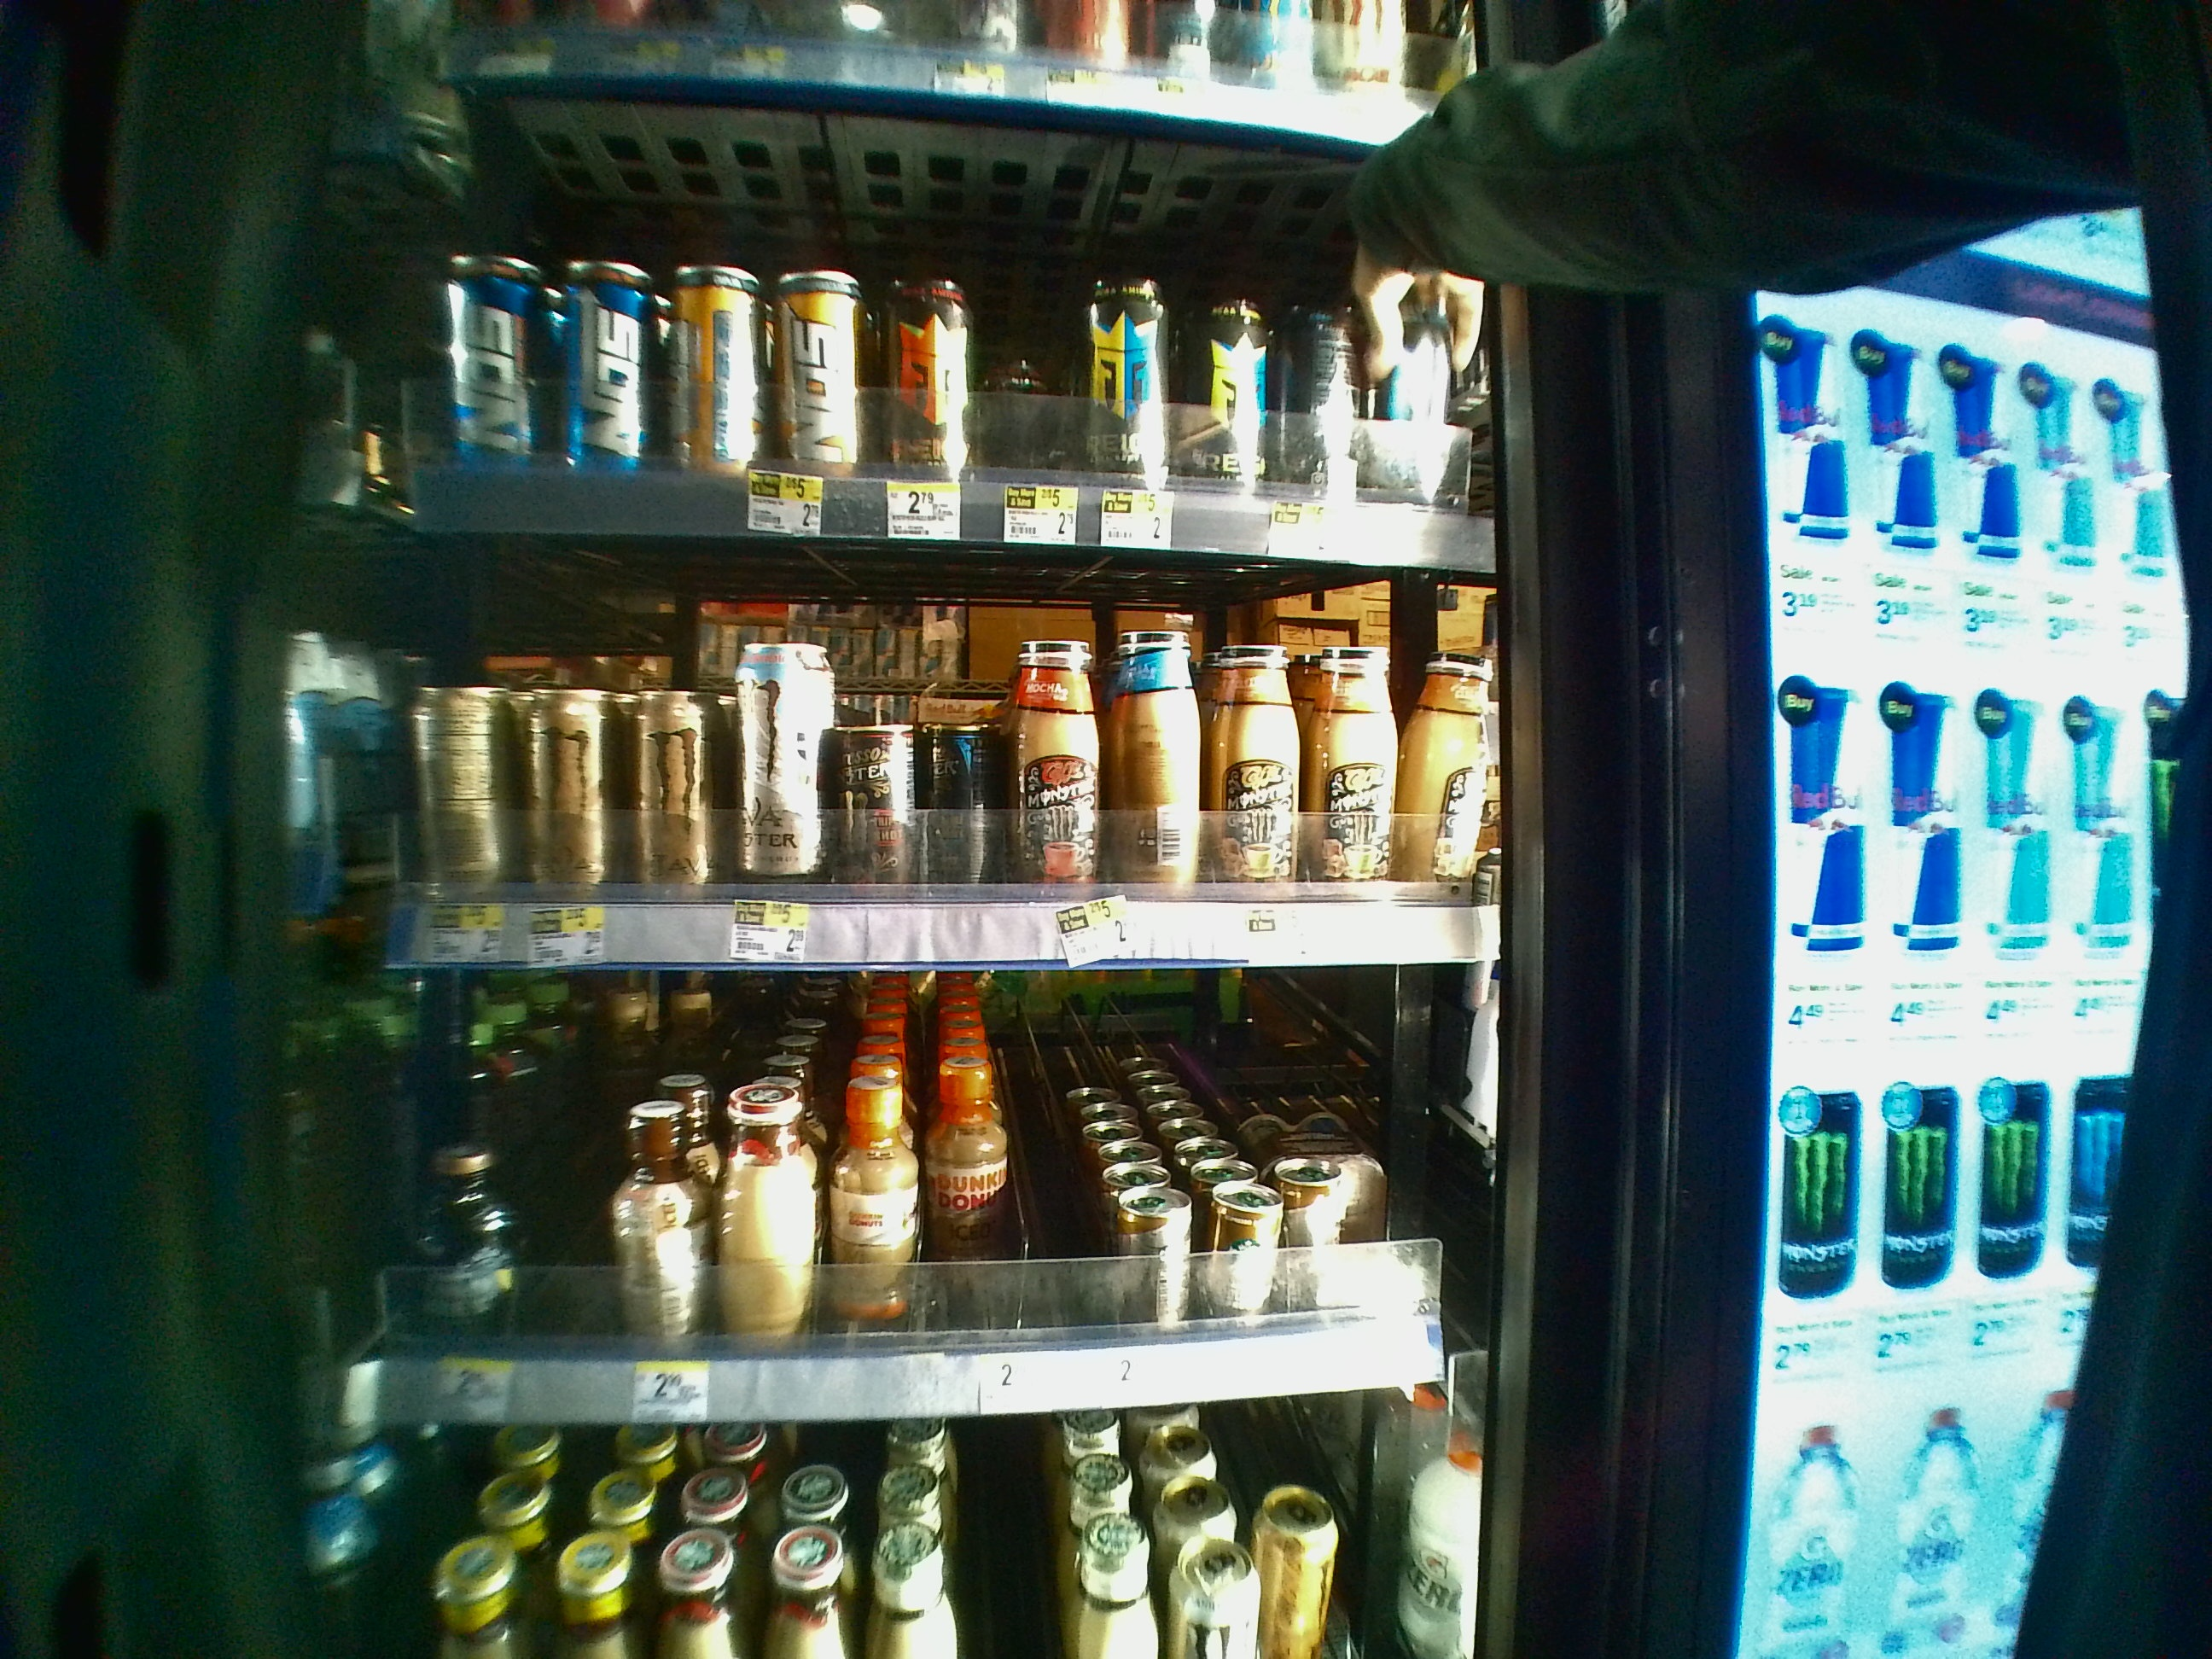shelf: (261, 960, 1524, 1417), (260, 530, 1529, 960)
